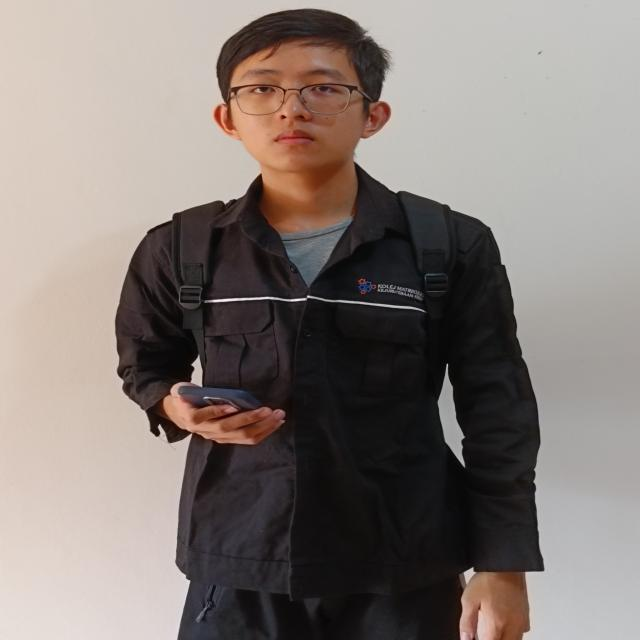person_with_labcoat: (116, 10, 543, 640)
